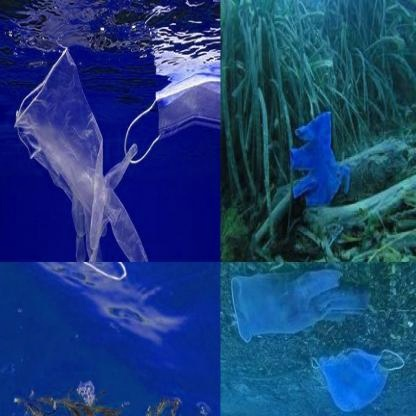Mask: (127, 69, 220, 167), (21, 262, 158, 326), (286, 116, 354, 222), (309, 347, 406, 415)
glove: (13, 46, 150, 261), (229, 269, 371, 342)
